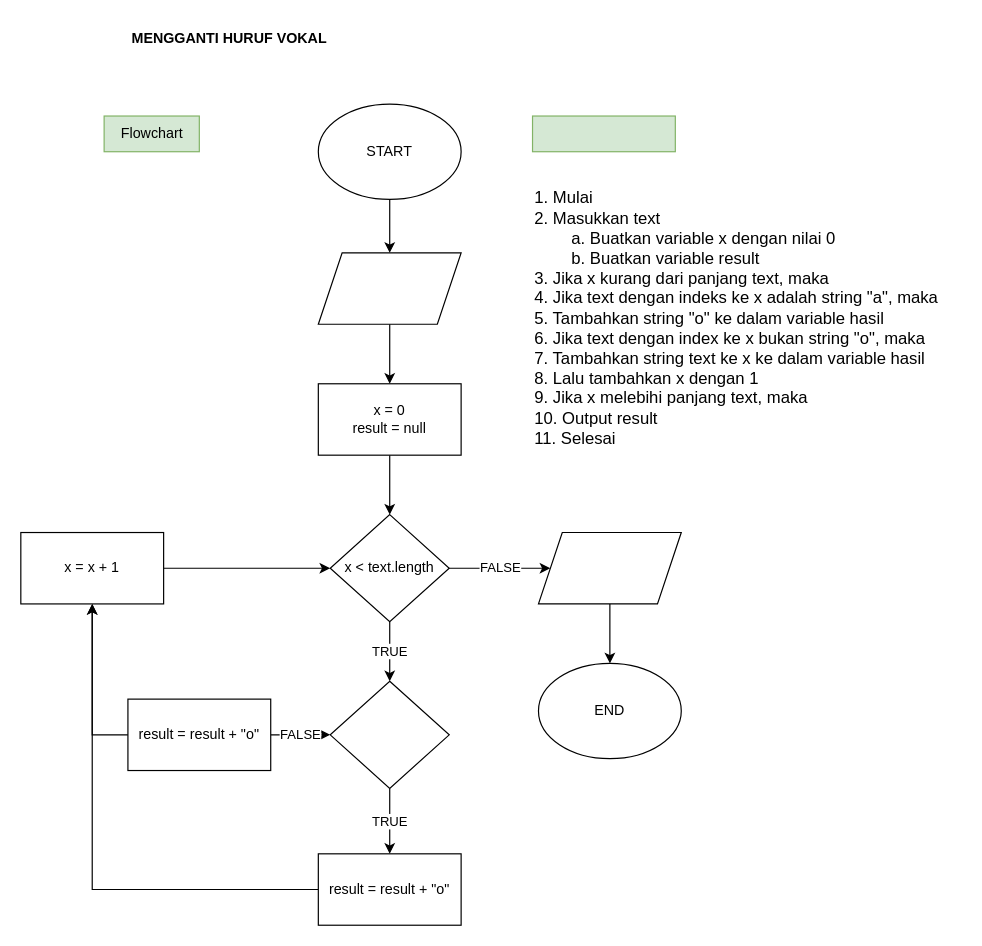
Some shapes in this 982 by 946 pixel diagram are drawn without their labels. The shapes that lost their labels are listed below. From the top down, each one's centre as x and y in pixels, then its label:
the point at 603,133: Natural Language
the point at 389,288: Input text
the point at 609,567: Output result
the point at 389,734: text[x] == "a"
